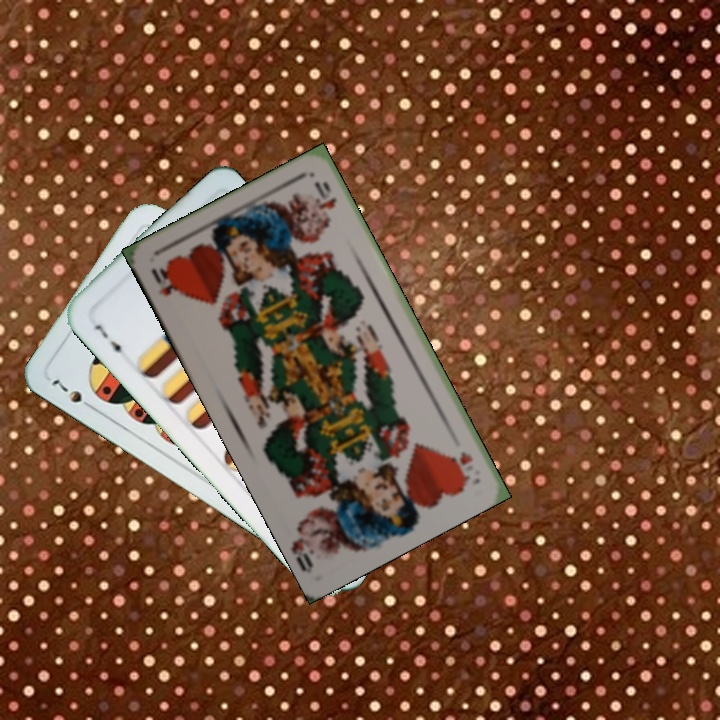E7: (90, 320, 127, 362)
HO: (147, 260, 184, 299), (450, 448, 475, 484)
S7: (47, 374, 98, 413)
